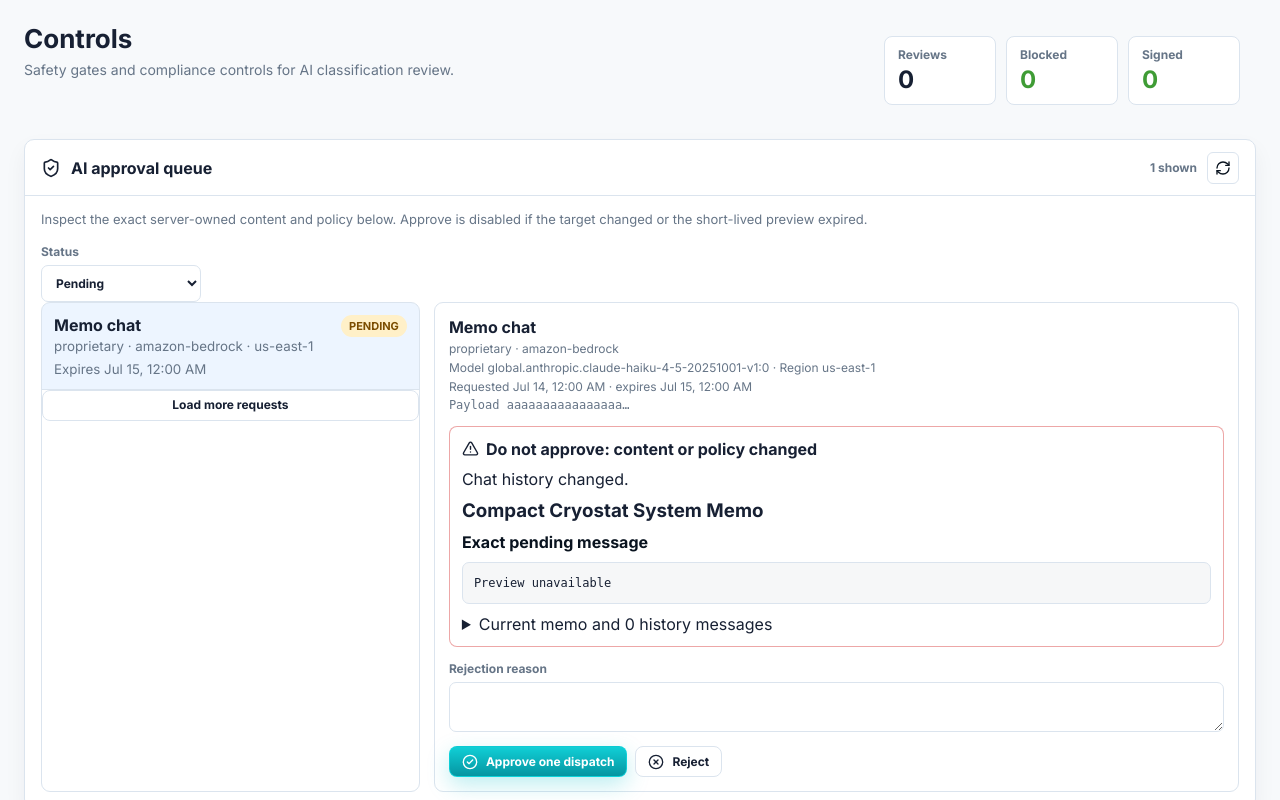
Test: AI approval Controls queue › disables blind approval for stale content and appends deduplicated queue pages
Expected: the button "Approve one dispatch" is disabled, [449,746,628,777]
Step 1. Click the button "Load more requests" → (230, 405), box [42,390,419,420]
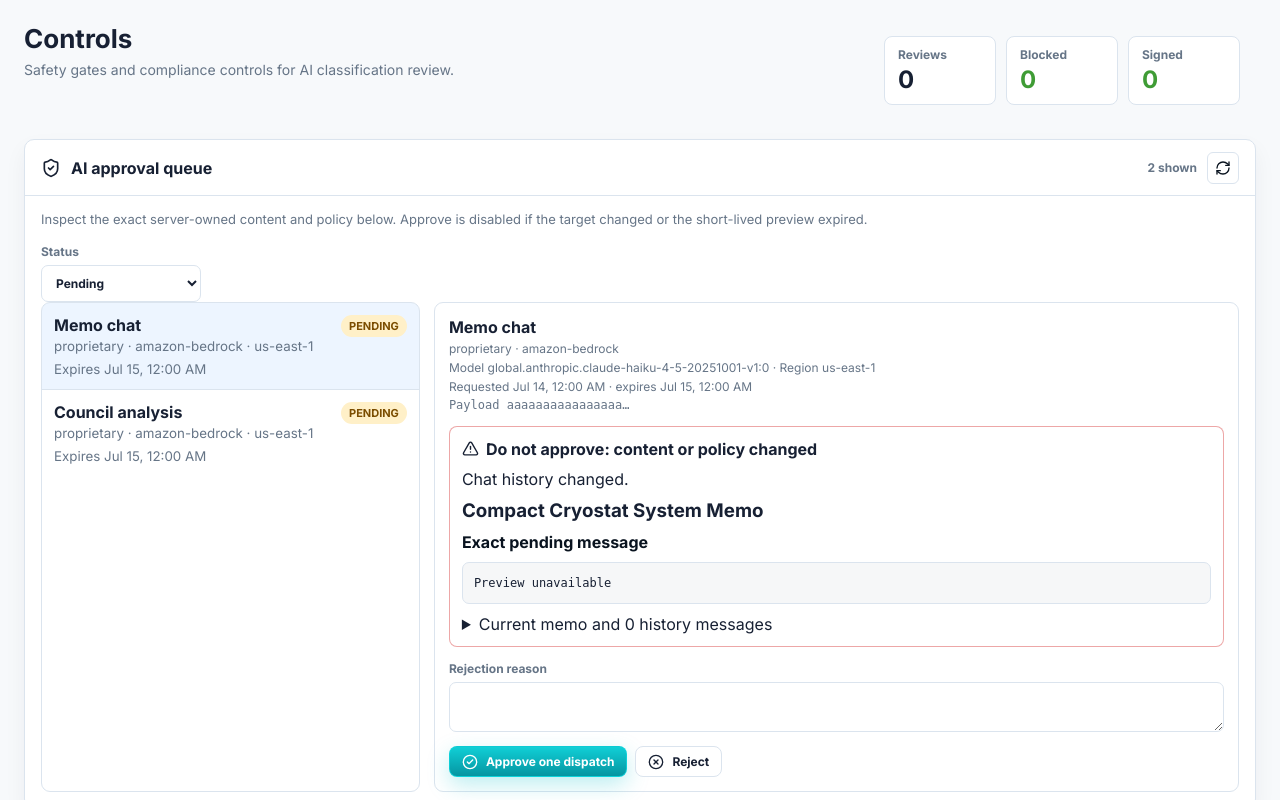
Expected: the text "Council analysis" is shown, [54,402,182,422]
Expected: the number of buttons with class "ai-approval-request-row" is 2, [42,302,419,390]; [42,390,419,476]
